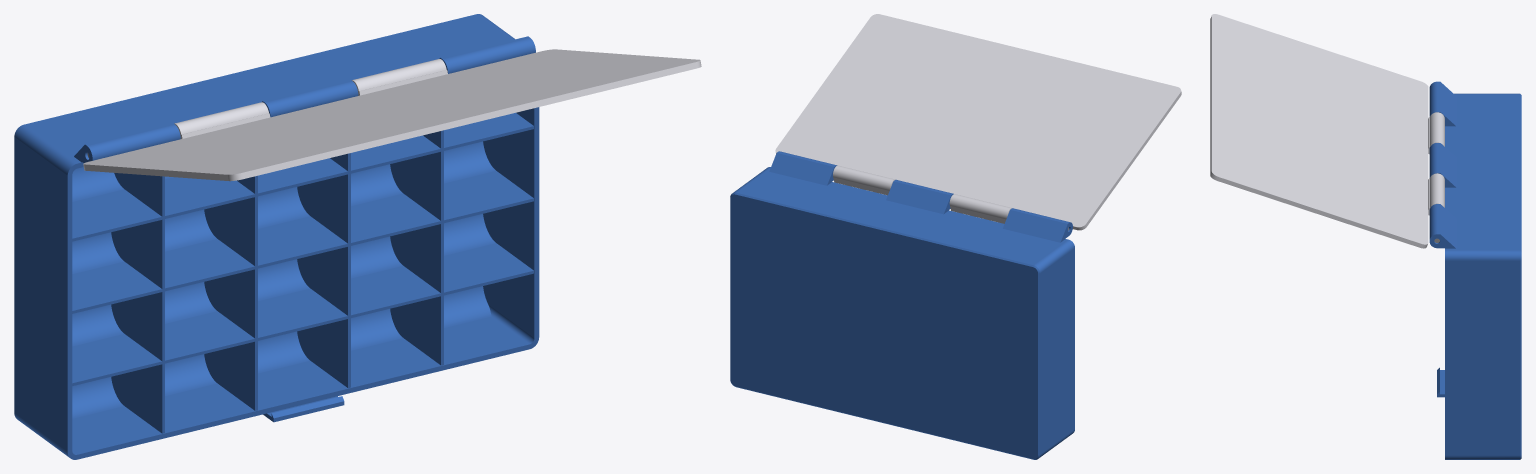
File: variant-COLS_5-ROWS_4.glb
The picture shows the model from 3 angles, left to right: view 1: azimuth 30°, elevation 25°; view 2: azimuth 150°, elevation 25°; view 3: azimuth 270°, elevation 25°; orthographic projection. The views are drawn at different scales.
Parts seen in each view (by area): view 1: 0:Kasten, 1:Deckel; view 2: 0:Kasten, 1:Deckel; view 3: 1:Deckel, 0:Kasten.
Part boxes in pixels (x1,y1,x2,y2): 0:Kasten: [14, 14, 539, 459]; 1:Deckel: [83, 49, 701, 181]; 0:Kasten: [730, 151, 1074, 459]; 1:Deckel: [775, 14, 1181, 230]; 1:Deckel: [1210, 14, 1444, 248]; 0:Kasten: [1429, 81, 1521, 459].
Size of the model in its own units: 200 by 167 by 162.
